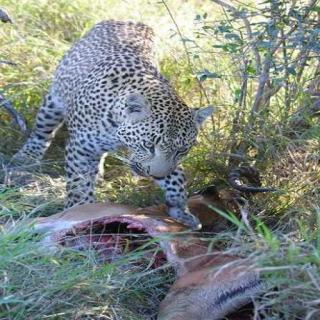-: (53, 19, 219, 226)
